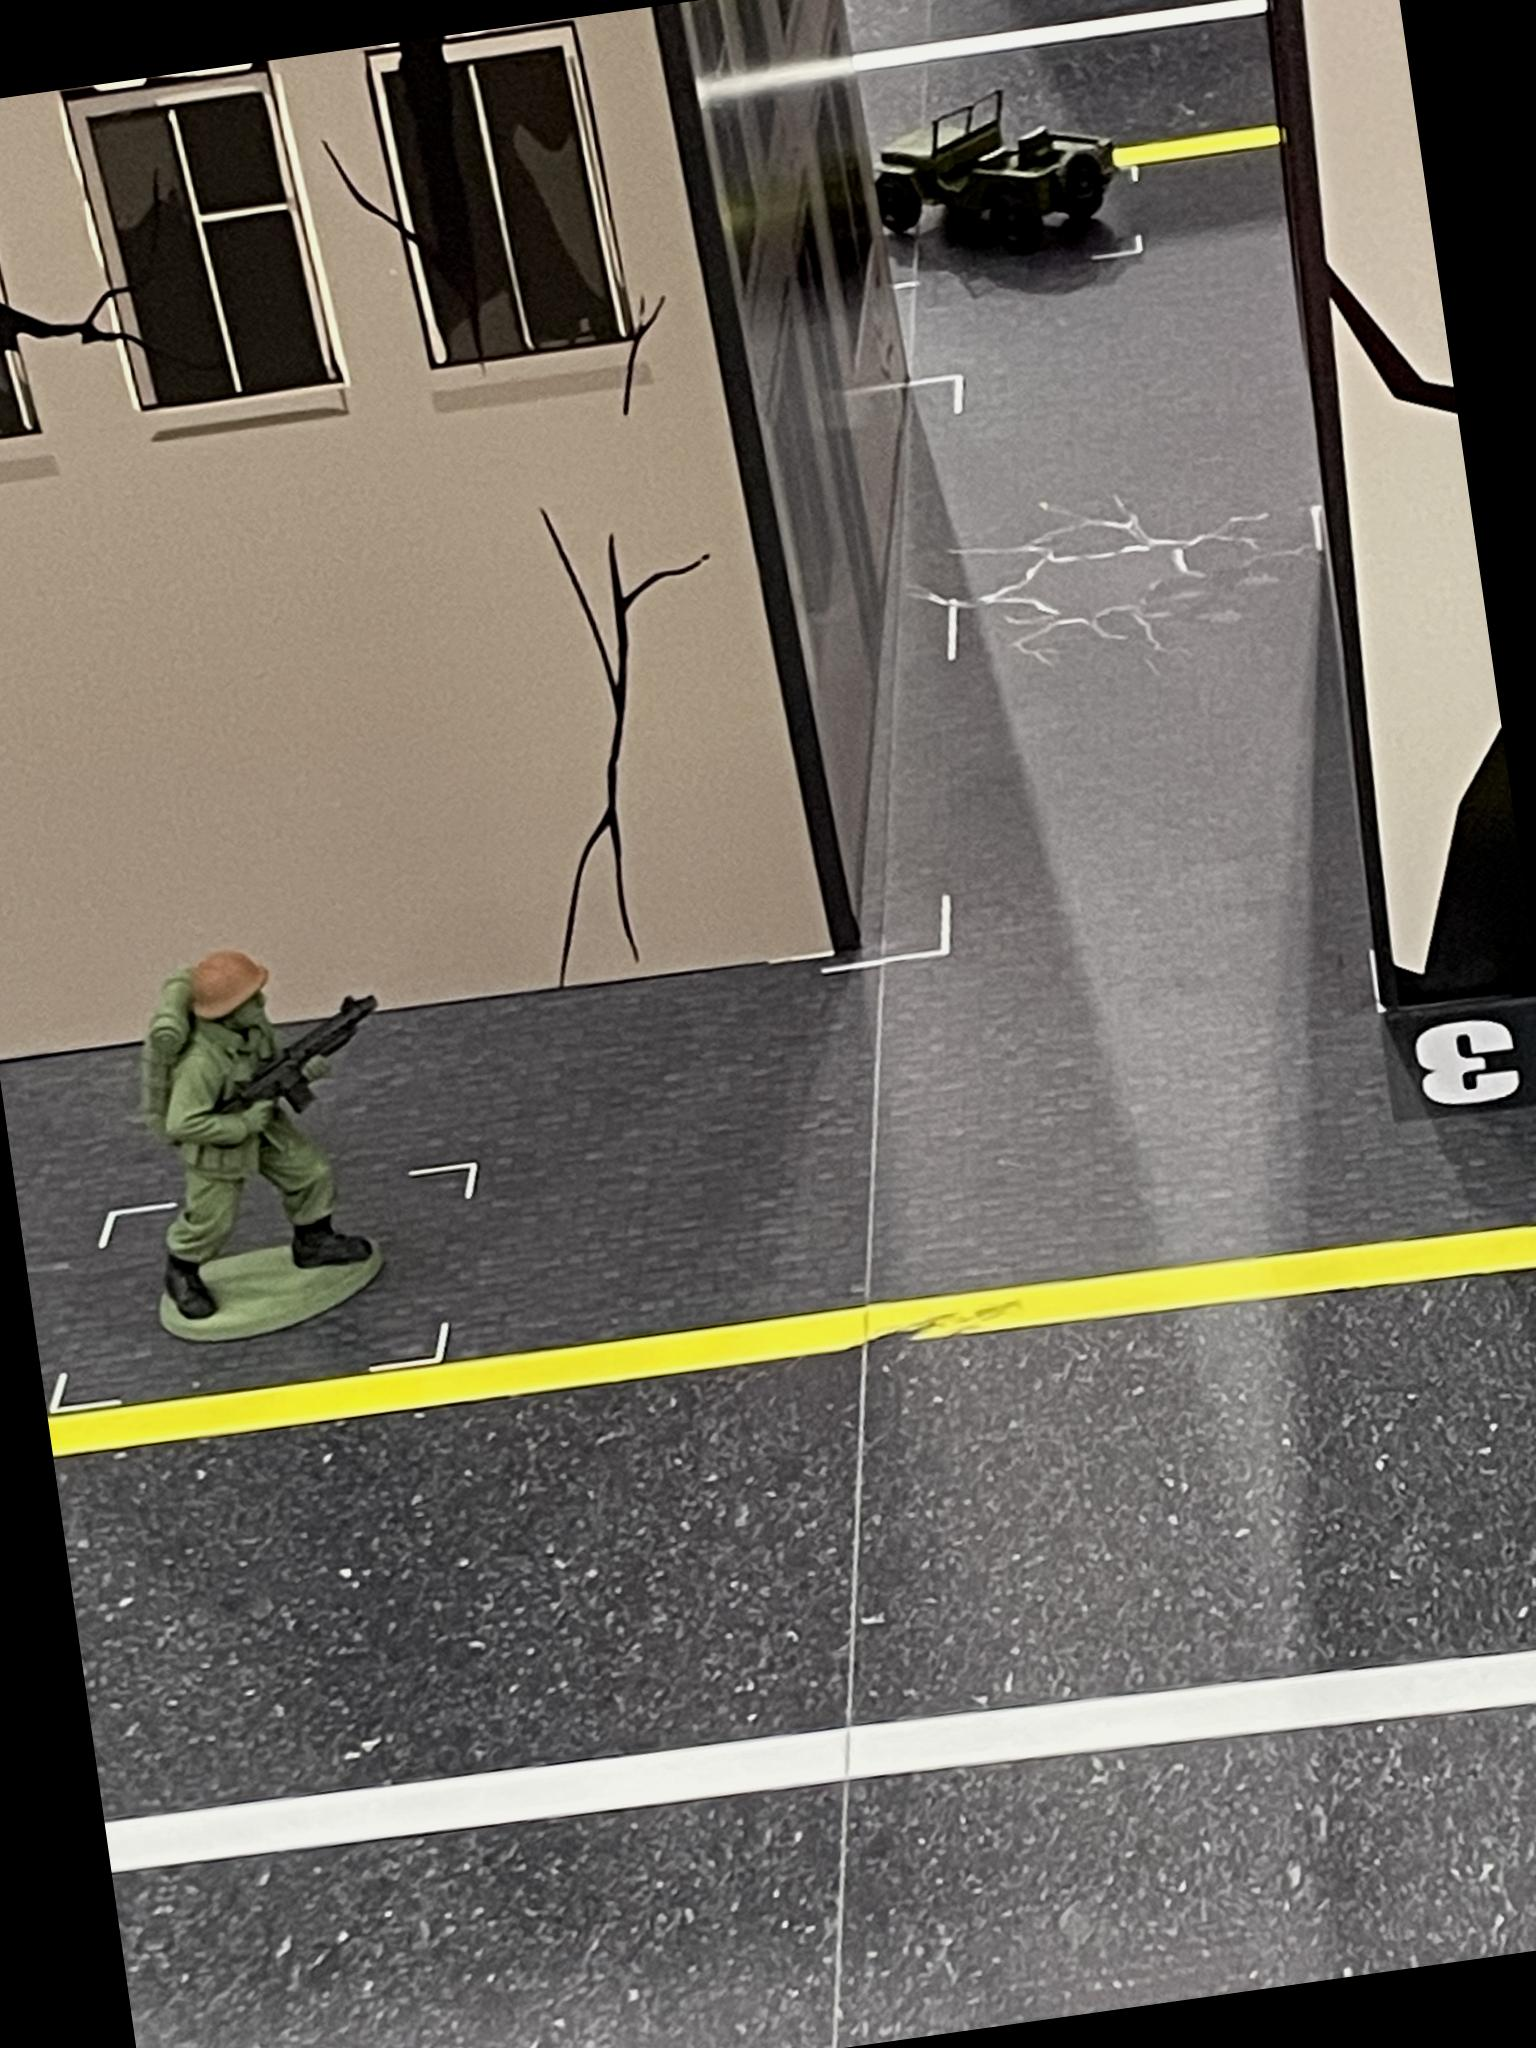Car: (871, 68, 1137, 282)
Enemy: (103, 916, 421, 1355)
